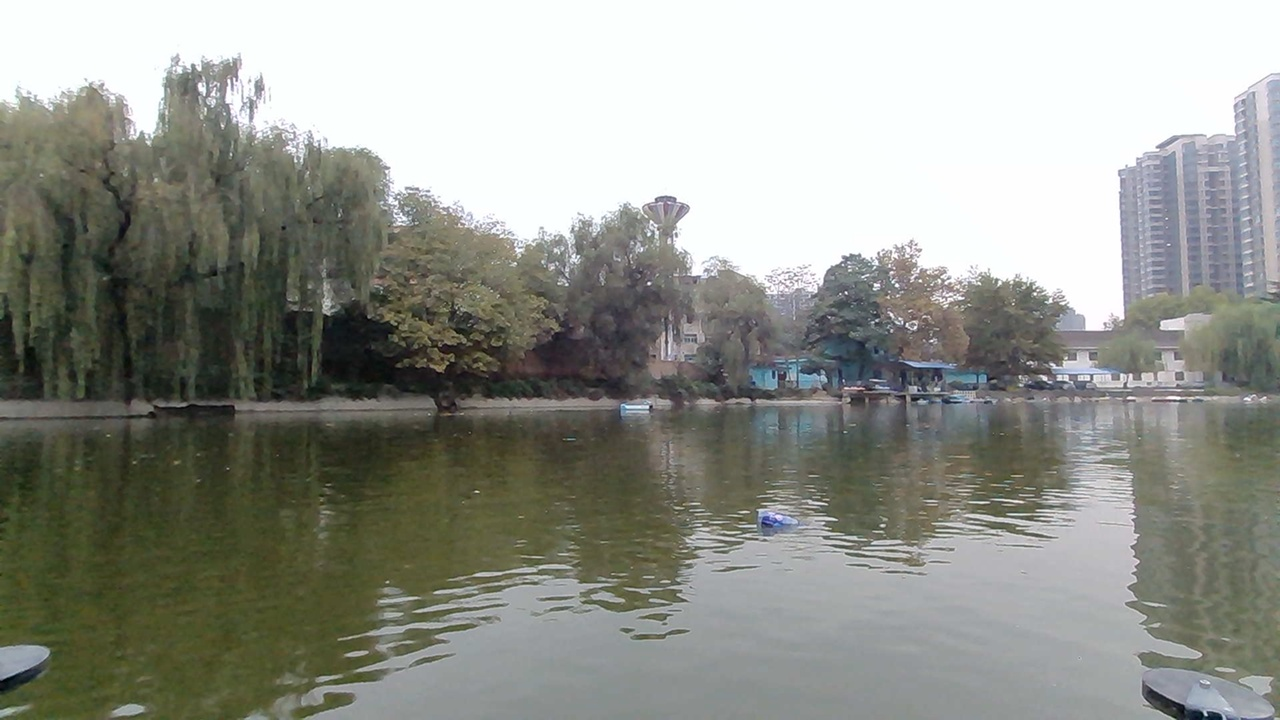bottle: (757, 507, 802, 541)
